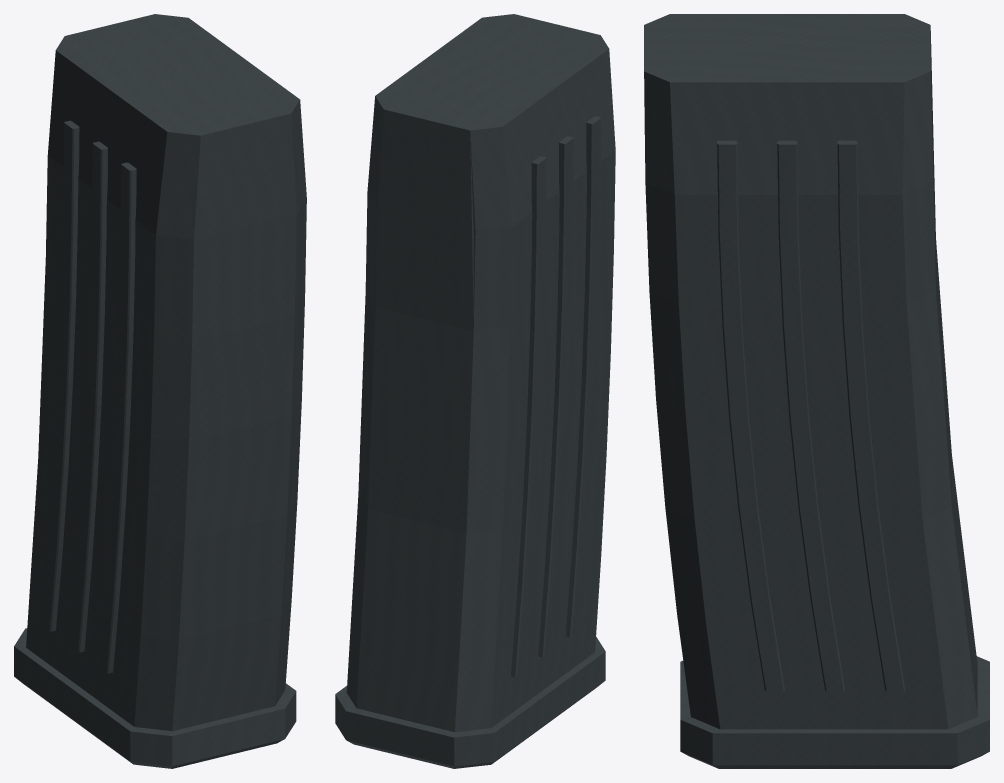
3 views of the same model, side by side, from view 1: azimuth 30°, elevation 25°; view 2: azimuth 150°, elevation 25°; view 3: azimuth 270°, elevation 25° (orthographic). The views are drawn at different scales.
Visible parts, largest first — view 1: m14_20_individual_shell, m14_20_individual_shell.001; view 2: m14_20_individual_shell.001, m14_20_individual_shell; view 3: m14_20_individual_shell, m14_20_individual_shell.001.
Part boxes in pixels (x1,y1,x2,y2): m14_20_individual_shell: [14, 14, 306, 768]; m14_20_individual_shell.001: [26, 258, 153, 725]; m14_20_individual_shell.001: [346, 109, 613, 732]; m14_20_individual_shell: [335, 14, 615, 768]; m14_20_individual_shell: [644, 14, 989, 768]; m14_20_individual_shell.001: [679, 31, 977, 729].
Bounding box in the file's own units: 0.0803 × 0.299 × 0.1376.
Materials: 1 (1 with a texture image).
